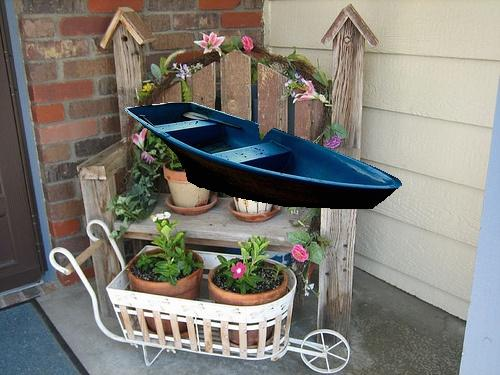tampered: (125, 103, 402, 209)
